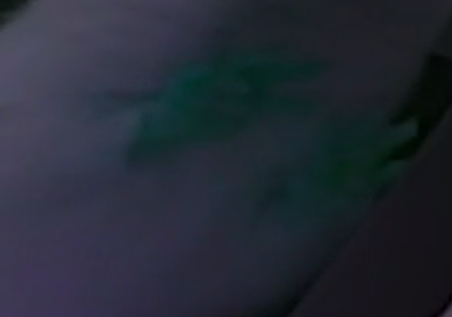paw: (134, 36, 354, 110), (281, 114, 421, 200)
